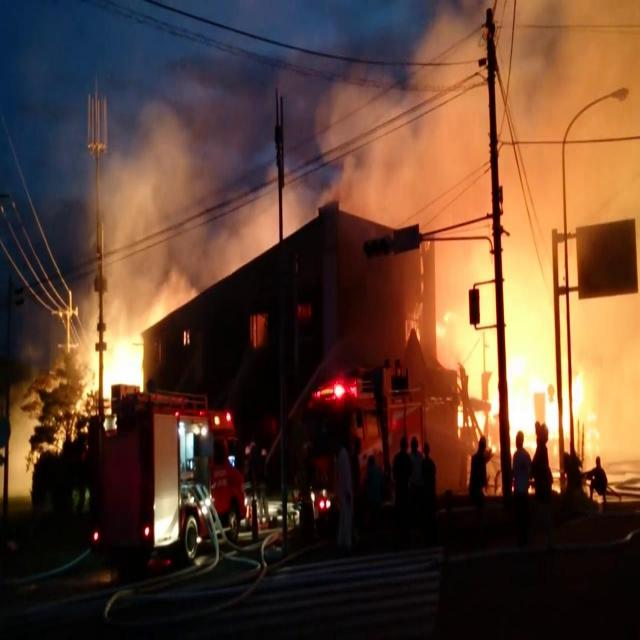fire: (506, 216, 588, 444), (435, 208, 495, 412), (86, 327, 144, 390)
